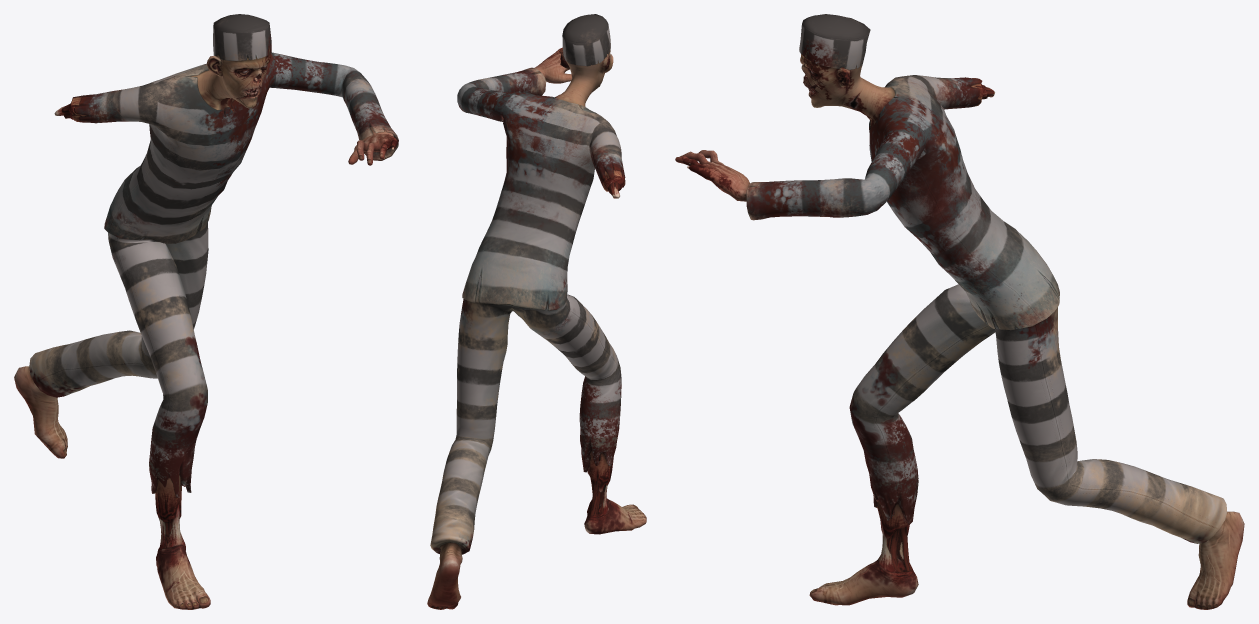
The model's file is Prisoner_Capoeira.obj.
3 renders of one model, left to right at view 1: azimuth 30°, elevation 25°; view 2: azimuth 150°, elevation 25°; view 3: azimuth 270°, elevation 25°, orthographic. The views are drawn at different scales.
Visible parts, largest first — view 1: Prisoner_Capoeira; view 2: Prisoner_Capoeira; view 3: Prisoner_Capoeira.
Boxes of the visible parts, left/top/right/bottom form: Prisoner_Capoeira: left=14, top=14, right=398, bottom=609; Prisoner_Capoeira: left=427, top=14, right=646, bottom=609; Prisoner_Capoeira: left=675, top=14, right=1244, bottom=609.
Size of the model in its own units: 79.85 by 177 by 149.
